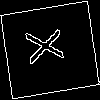X: (25, 24, 73, 65)
